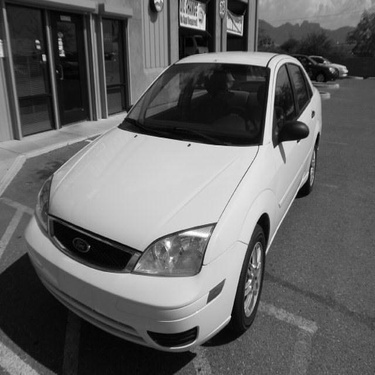car: (22, 34, 325, 360), (273, 50, 339, 82), (311, 50, 352, 77)
